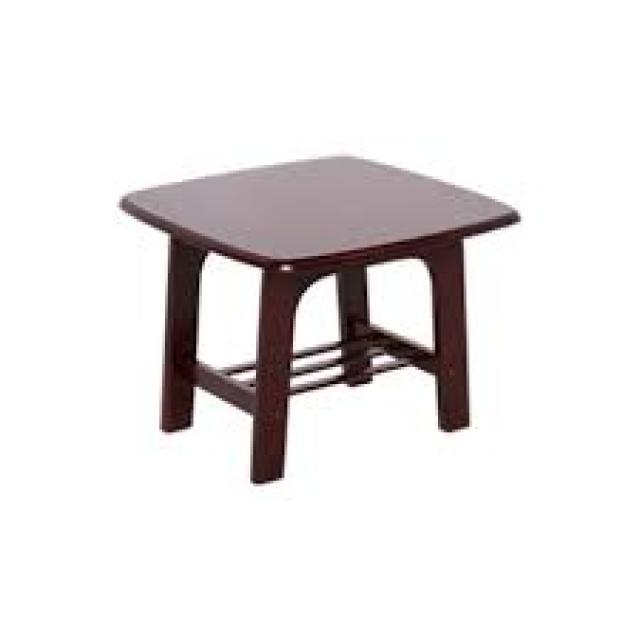obstacle: (84, 92, 566, 517)
